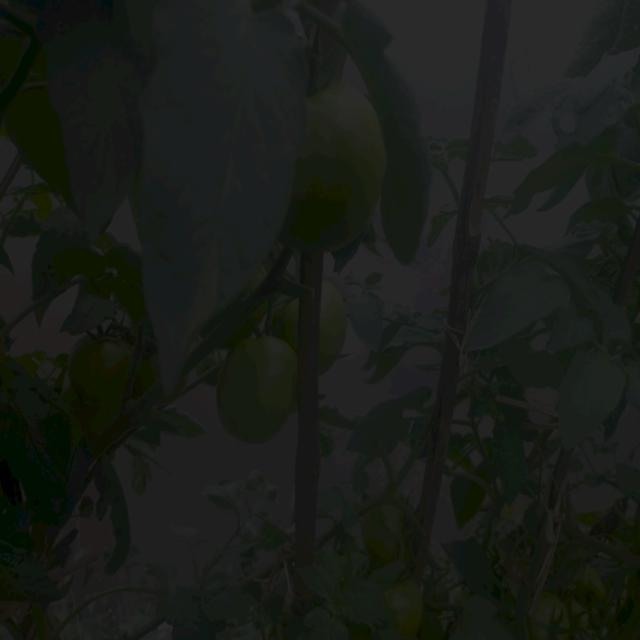tomato: (291, 78, 386, 244), (222, 337, 295, 450), (69, 336, 140, 404), (360, 490, 420, 563), (382, 577, 430, 640), (321, 287, 346, 374), (530, 593, 570, 640), (273, 296, 307, 351)
